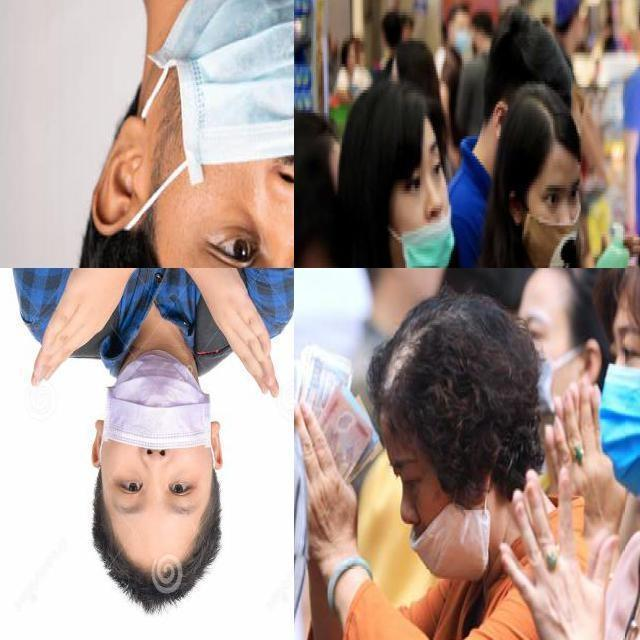hairnet: (131, 0, 293, 210), (108, 344, 208, 470), (400, 484, 492, 592), (386, 194, 452, 267)
